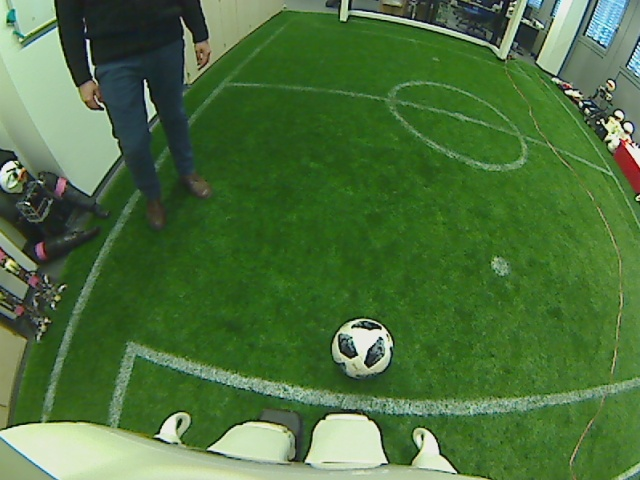ball: (330, 315, 393, 379)
